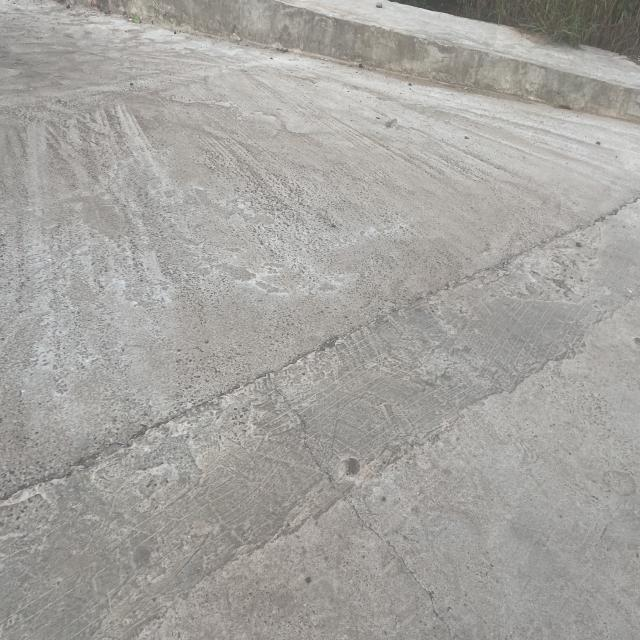D43: (36, 177, 638, 638)
